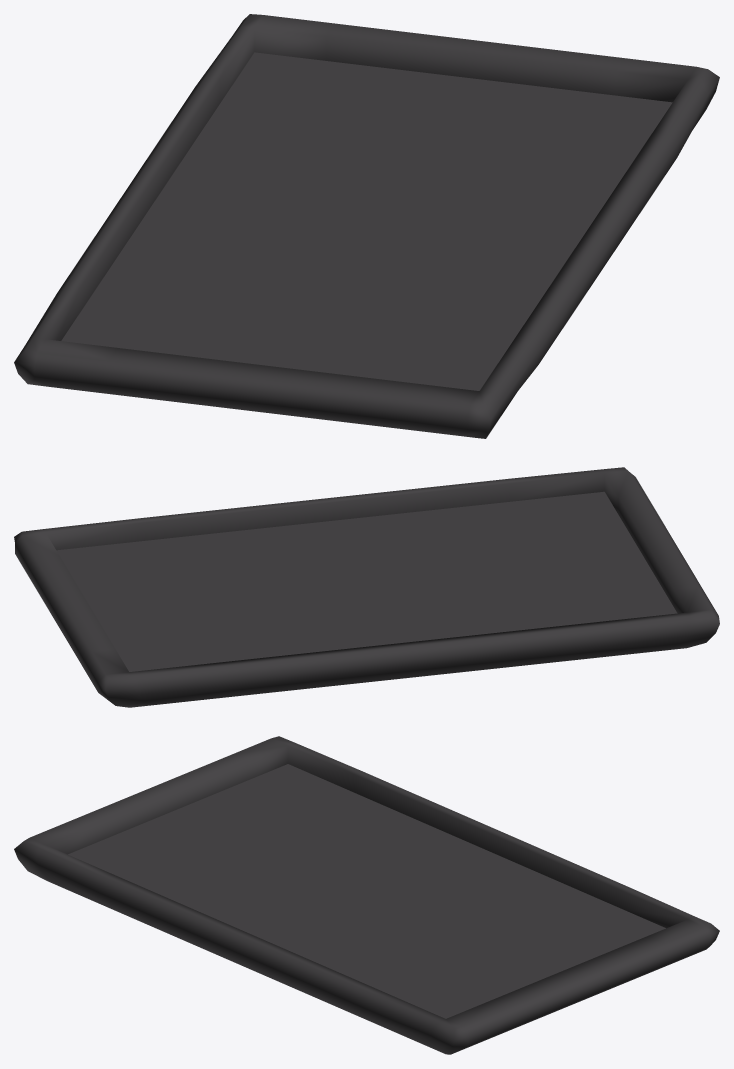
Rendered from tray.fbx.
3 renders of one model, top to bottom at view 1: azimuth 30°, elevation 25°; view 2: azimuth 150°, elevation 25°; view 3: azimuth 270°, elevation 25°, orthographic. The views are drawn at different scales.
Visible parts, largest first — view 1: pCube11; view 2: pCube11; view 3: pCube11.
Part boxes in pixels (x1,y1,x2,y2): pCube11: (14, 14, 719, 438); pCube11: (14, 467, 719, 707); pCube11: (14, 736, 719, 1054).
Bounding box in the file's own units: 221 × 12.23 × 219.
